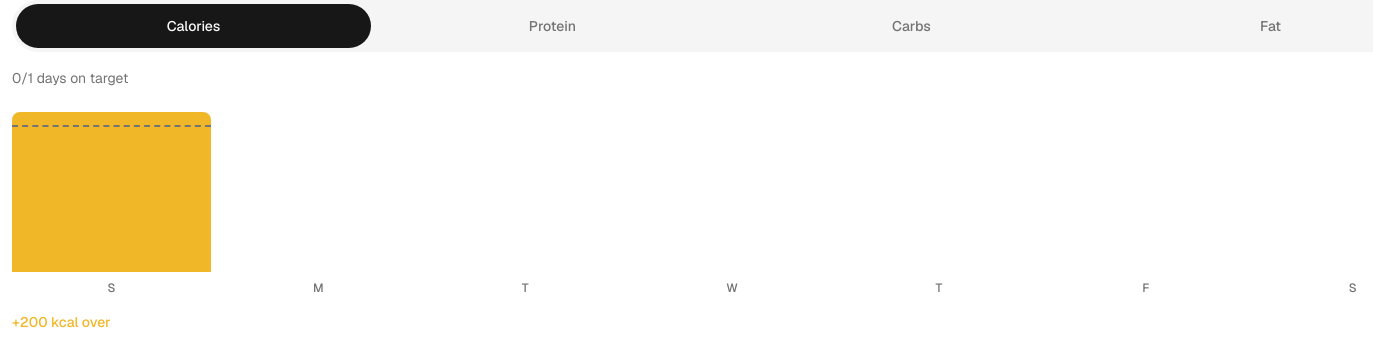
Test: WeeklyNutritionChart › switches metric and updates the net summary
Expected: the text with test id "net-surplus-deficit" reads "+200 kcal over", [12,313,111,331]
Switch to protein
Click the button with test id "metric-protein". click: x=552, y=26
box: [375,4,730,48]
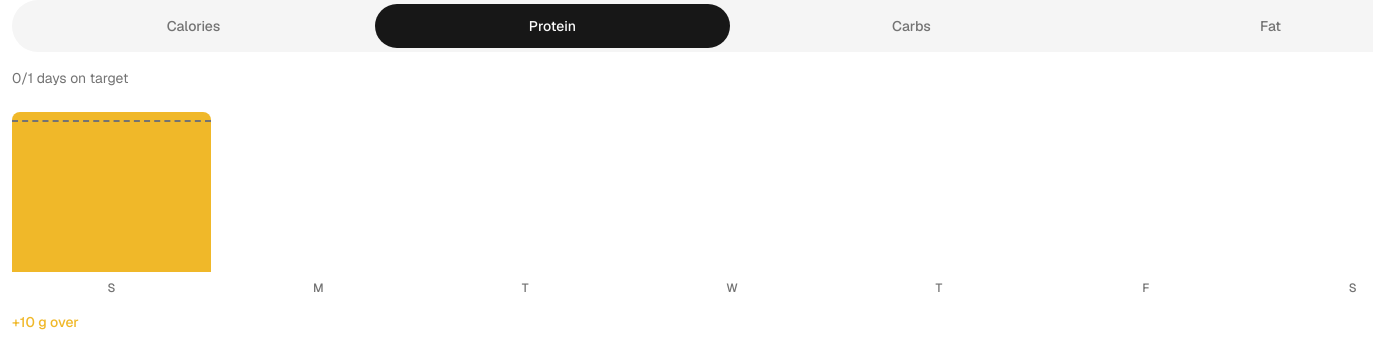
Expected: the text with test id "net-surplus-deficit" reads "+10 g over", [12,313,79,331]
